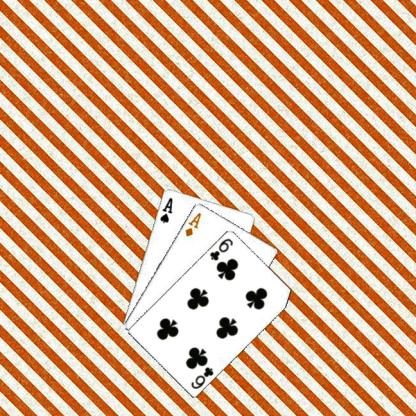6C: (188, 364, 215, 390), (207, 236, 234, 261)
AD: (182, 210, 203, 238)
AS: (157, 195, 174, 224)
